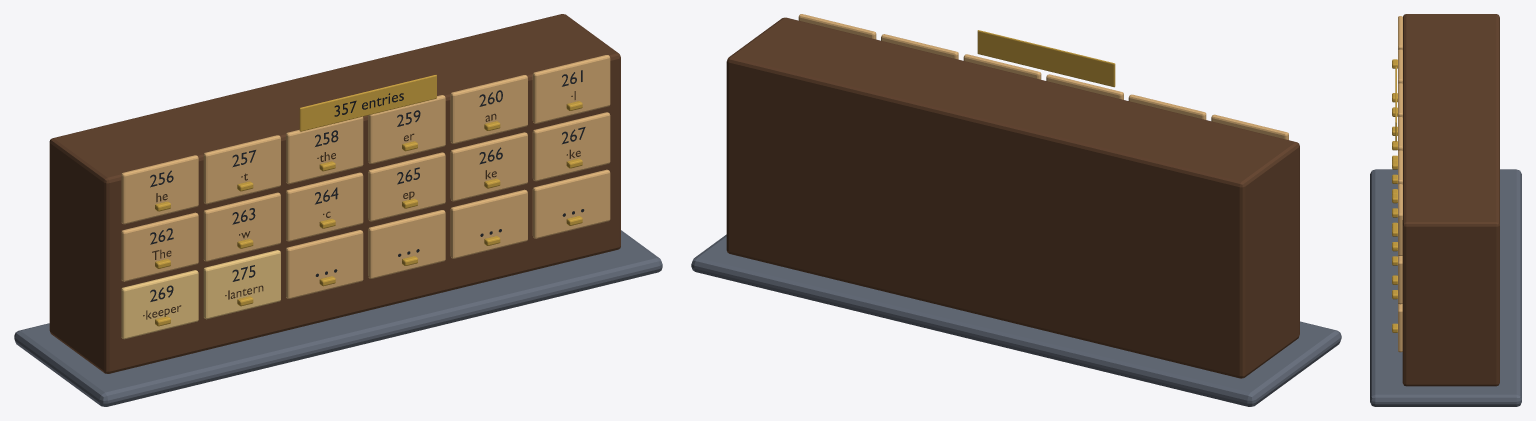
File: vocabulary.glb
The picture shows the model from 3 angles, left to right: view 1: azimuth 30°, elevation 25°; view 2: azimuth 150°, elevation 25°; view 3: azimuth 270°, elevation 25°; orthographic projection. The views are drawn at different scales.
Visible parts, largest first — view 1: carcass, stand, d17_face, d5_face, d16_face, d14_face, d15_face, d11_face, d1_face, d8_face, d4_face, d13_face (+9 smaller); view 2: carcass, stand, count_p, d1_face, d3_face, d5_face, d0_face, d2_face, d4_face; view 3: carcass, stand, d5_face, d17_face, d11_face, d1_face, d0_face, d2_face, d3_face, d4_face, count_p.
Boxes of the visible parts, box(x1,y1,x2,y2) form: carcass: box(49, 14, 620, 373); stand: box(14, 230, 662, 406); d17_face: box(532, 169, 610, 238); d5_face: box(532, 55, 610, 123); d16_face: box(450, 189, 527, 258); d14_face: box(286, 230, 363, 298); d15_face: box(368, 210, 445, 278); d11_face: box(532, 112, 610, 181); d1_face: box(203, 135, 280, 204); d8_face: box(286, 172, 363, 241); d4_face: box(450, 75, 527, 143); d13_face: box(203, 250, 280, 319); carcass: box(726, 17, 1299, 378); stand: box(691, 234, 1341, 406); count_p: box(977, 30, 1115, 87); d1_face: box(1128, 94, 1206, 119); d3_face: box(963, 54, 1041, 79); d5_face: box(798, 14, 876, 39); d0_face: box(1211, 114, 1288, 139); d2_face: box(1046, 74, 1123, 99); d4_face: box(881, 34, 958, 59); carcass: box(1402, 14, 1499, 386); stand: box(1370, 169, 1521, 406); d5_face: box(1398, 184, 1402, 255); d17_face: box(1398, 303, 1402, 352); d11_face: box(1398, 255, 1402, 304); d1_face: box(1398, 49, 1402, 83); d0_face: box(1398, 16, 1402, 50); d2_face: box(1398, 83, 1402, 117); d3_face: box(1398, 117, 1402, 150); d4_face: box(1398, 150, 1402, 184); count_p: box(1395, 66, 1396, 141).
Size of the model in its own units: 1.23 by 0.5 by 0.344.
